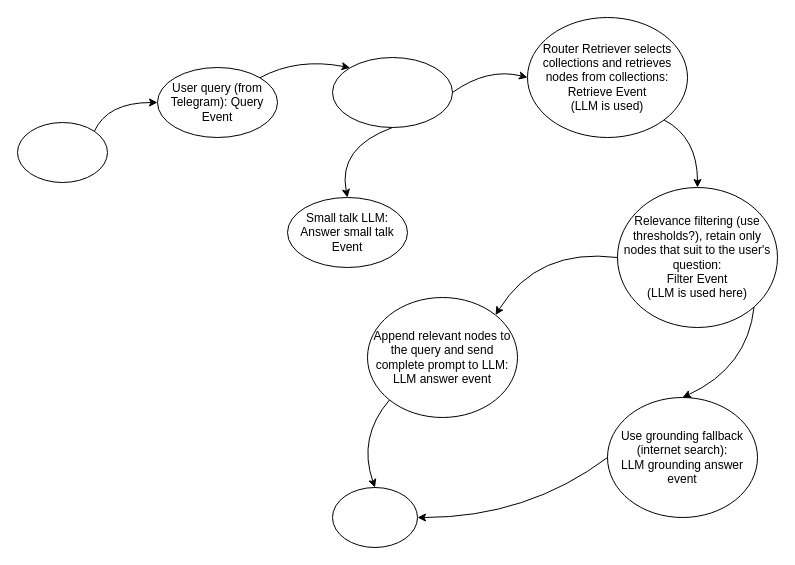
Image size: 795x565. Some labels were removed from this diagram. Here are the shapes that lost their labels. From the top down, the box of each, then its label:
(332, 56, 452, 128): Classify intent: Intent Event (Use LLM?)
(16, 122, 108, 182): Initial state: Start Event
(332, 486, 418, 548): Final state: Stop Event
